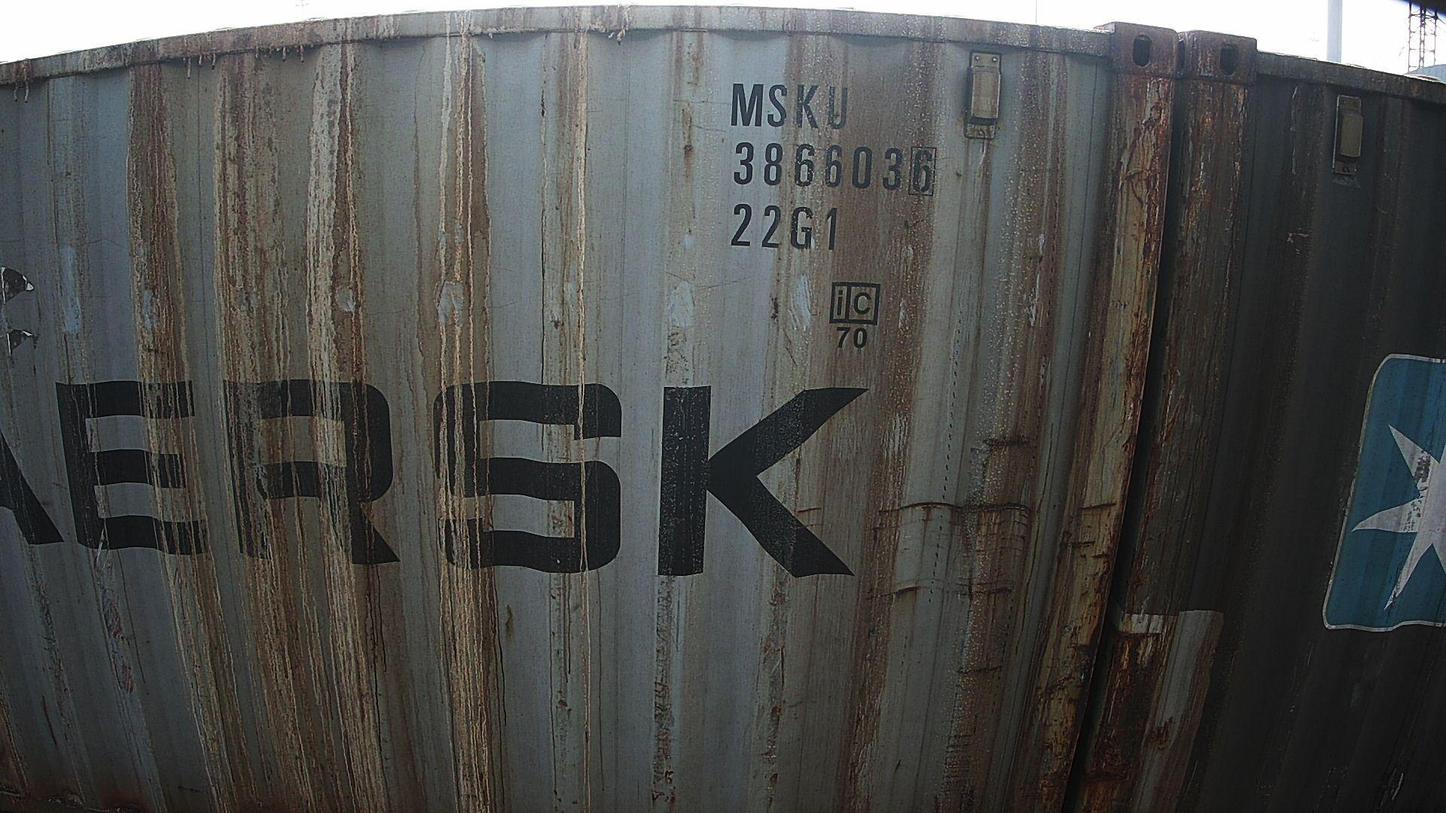container-numbers: (728, 140, 941, 202), (729, 79, 853, 133), (728, 201, 843, 255)
